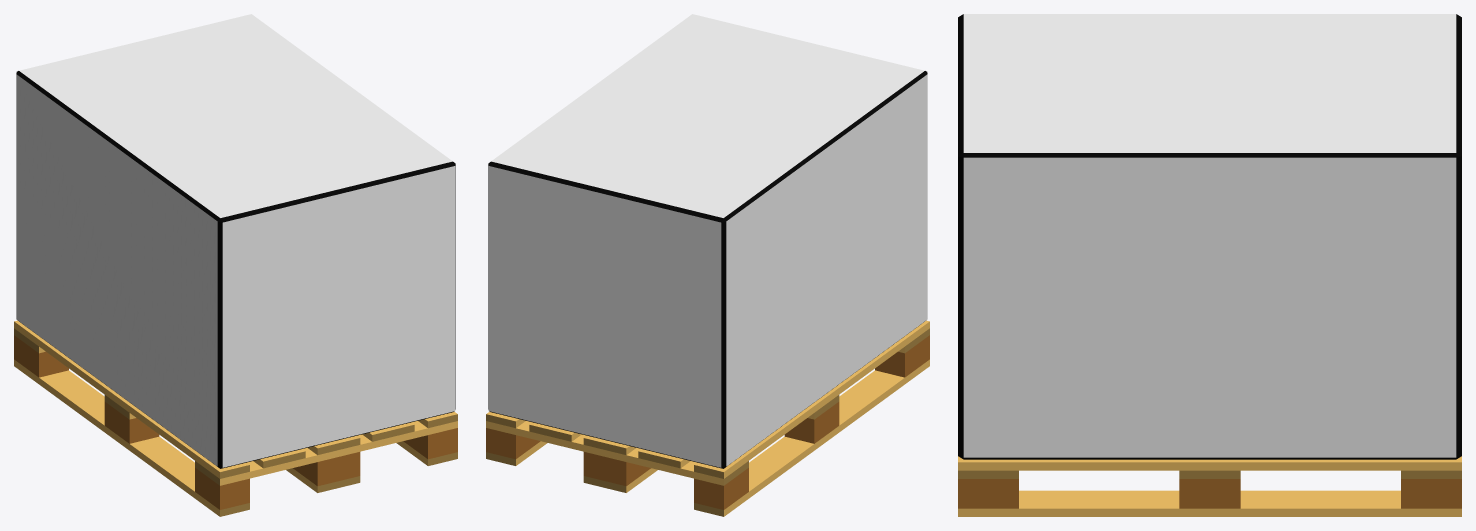
File: epalFullMesh.fbx
3 views of the same model, side by side, from view 1: azimuth 30°, elevation 25°; view 2: azimuth 150°, elevation 25°; view 3: azimuth 270°, elevation 25° (orthographic). The views are drawn at different scales.
Parts seen in each view (by area): view 1: Paper, Wood; view 2: Paper, Wood; view 3: Paper, Wood.
Part boxes in pixels (left/top/right/bottom): Paper: left=16, top=14, right=455, bottom=468; Wood: left=14, top=320, right=457, bottom=516; Paper: left=488, top=14, right=927, bottom=468; Wood: left=486, top=320, right=929, bottom=516; Paper: left=958, top=14, right=1461, bottom=459; Wood: left=958, top=456, right=1461, bottom=516.
Bounding box in the file's own units: 800 × 953 × 1200.
